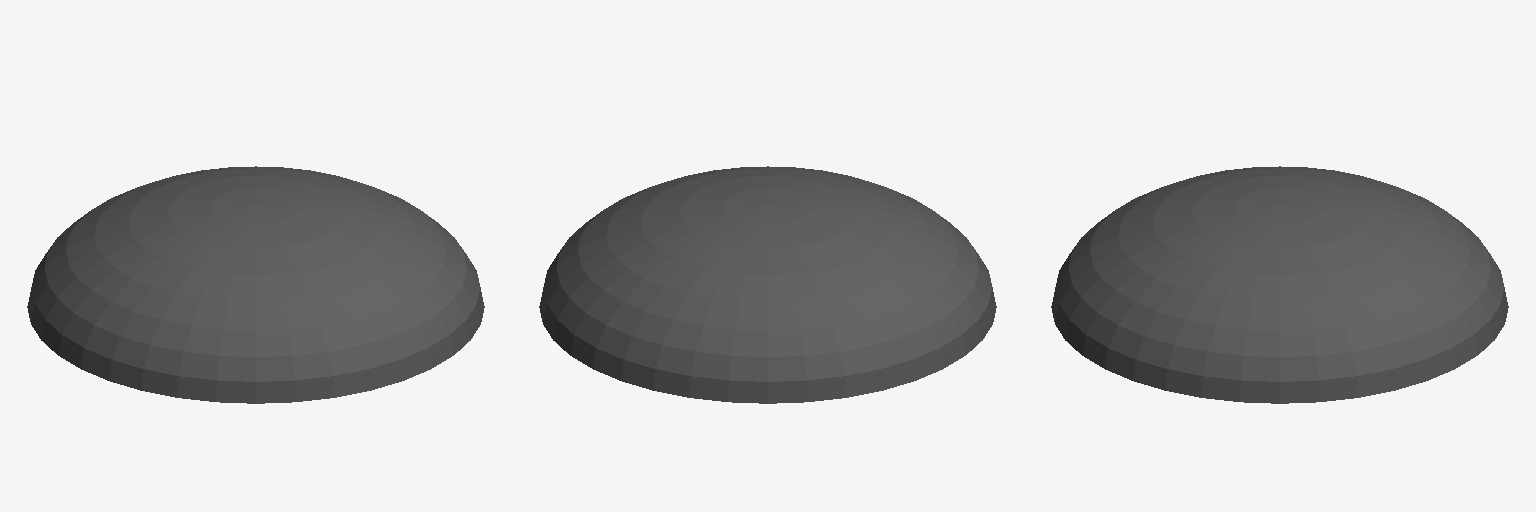
The model's file is sky.obj.
The picture shows the model from 3 angles: view 1: azimuth 30°, elevation 25°; view 2: azimuth 150°, elevation 25°; view 3: azimuth 270°, elevation 25°; orthographic projection.
Visible parts, largest first — view 1: Skydome; view 2: Skydome; view 3: Skydome.
Part boxes in pixels (x1,y1,x2,y2): Skydome: (27,166,484,403); Skydome: (539,166,996,403); Skydome: (1051,166,1508,403).
Size of the model in its own units: 0.8557 by 0.2114 by 0.8557.